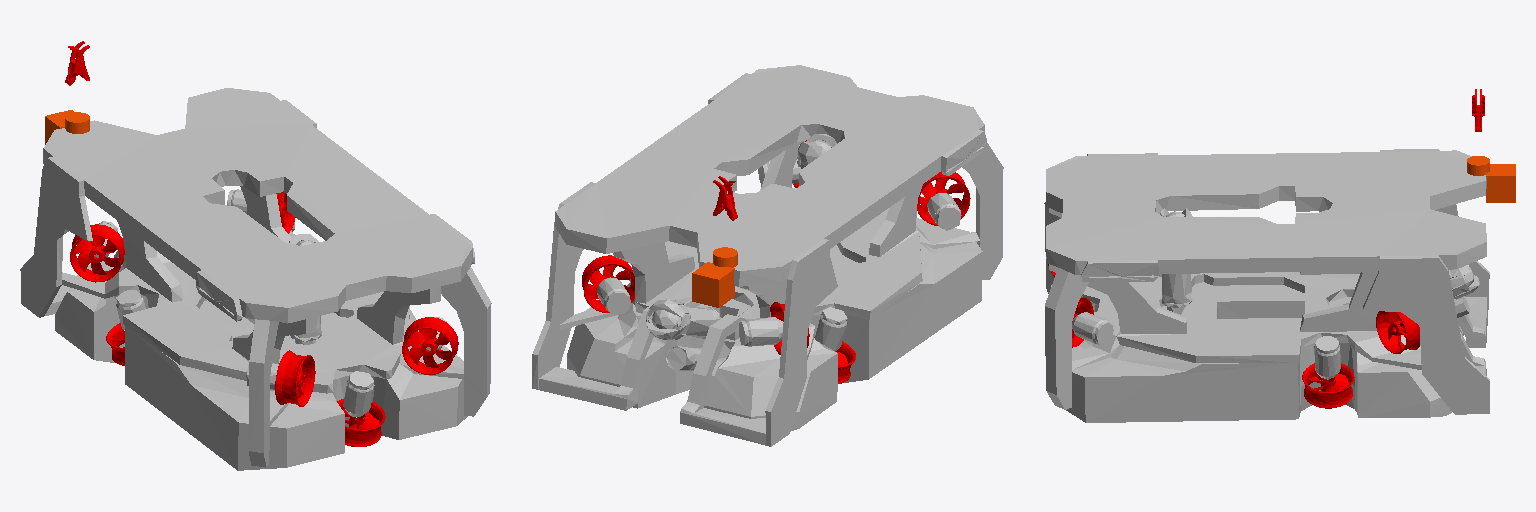
robot.urdf — bluevolta_bravo7_gripper:
<?xml version="1.0"?>
<robot name="bluevolta_bravo7_gripper">

        <material name="green">
                <color rgba="0.235 0.702 0.443 1"/>
        </material>

        <material name="blue">
                <color rgba="0.263 0.733 0.984 1"/>
        </material>

        <material name="red">
                <color rgba="1 0 0 1"/>
        </material>

        <material name="black">
                <color rgba="0.8 0.8 0.8 1"/>
        </material>

        <material name="orange">
                <color rgba="1 0.369 0.047 1"/>
        </material>

            <link name="bluevolta">
                <!--Inertial parameters are not correct-->
                <inertial>
                    <mass value="200.0"/>
                    <origin xyz="0 0 0"/>
                    <inertia ixx="0.01152" ixy="0.0" ixz="0.0" iyy="0.01152" iyz="0.0" izz="0.0218"/>
                </inertial>
                <visual>
                    <origin rpy="0 0 0" xyz="0 0 0"/>
                    <geometry>
                        <mesh filename="package://example-robot-data/robots/bluevolta_description/meshes/bluevolta.stl"/>
                    </geometry>
                    <material name="black"/>
                </visual>
                <collision>
                    <origin rpy="0 0 0" xyz="0 0 0"/>
                    <geometry>
                        <mesh filename="package://example-robot-data/robots/bluevolta_description/meshes/bluevolta_convex_hull.stl"/>
                    </geometry>
                </collision>
            </link>

            <!--THRUSTERS-->
            <link name="Thruster_TOP_FL">
                <visual>
                    <geometry>
                        <mesh filename="package://example-robot-data/robots/bluevolta_description/meshes/bluevolta_propeller.stl"/>
                    </geometry>
                    <material name="red"/>
                </visual>
            </link>

            <link name="Thruster_TOP_FR">
                <visual>
                    <geometry>
                        <mesh filename="package://example-robot-data/robots/bluevolta_description/meshes/bluevolta_propeller.stl"/>
                    </geometry>
                    <material name="red"/>
                </visual>
            </link>

            <link name="Thruster_TOP_B">
                <visual>
                    <geometry>
                        <mesh filename="package://example-robot-data/robots/bluevolta_description/meshes/bluevolta_propeller.stl"/>
                    </geometry>
                    <material name="red"/>
                </visual>
            </link>

            <link name="Thruster_BOTTOM_FL">
                <visual>
                    <geometry>
                        <mesh filename="package://example-robot-data/robots/bluevolta_description/meshes/bluevolta_propeller.stl"/>
                    </geometry>
                    <material name="red"/>
                </visual>
            </link>

            <link name="Thruster_BOTTOM_FR">
                <visual>
                    <geometry>
                        <mesh filename="package://example-robot-data/robots/bluevolta_description/meshes/bluevolta_propeller.stl"/>
                    </geometry>
                    <material name="red"/>
                </visual>
            </link>

            <link name="Thruster_BOTTOM_BL">
                <visual>
                    <geometry>
                        <mesh filename="package://example-robot-data/robots/bluevolta_description/meshes/bluevolta_propeller.stl"/>
                    </geometry>
                    <material name="red"/>
                </visual>
            </link>

            <link name="Thruster_BOTTOM_BR">
                <visual>
                    <geometry>
                        <mesh filename="package://example-robot-data/robots/bluevolta_description/meshes/bluevolta_propeller.stl"/>
                    </geometry>
                    <material name="red"/>
                </visual>
            </link>

                    <joint name="Thruster_TOP_FL_joint" type="fixed">
                        <parent link="bluevolta"/>
                        <child link="Thruster_TOP_FL"/>
                        <origin rpy="0.0 1.8 0.0" xyz="0.34 0.25 -0.28"/>
                    </joint>

                    <joint name="Thruster_TOP_FR_joint" type="fixed">
                        <parent link="bluevolta"/>
                        <child link="Thruster_TOP_FR"/>
                        <origin rpy="0.0 1.34 0.0" xyz="-0.34 0.25 -0.28"/>
                    </joint>

                    <joint name="Thruster_TOP_B_joint" type="fixed">
                        <parent link="bluevolta"/>
                        <child link="Thruster_TOP_B"/>
                        <origin rpy="0.0 1.8 -1.57" xyz="0.0 -0.6 -0.3"/>
                    </joint>

                    <joint name="Thruster_BOTTOM_FR_joint" type="fixed">
                        <parent link="bluevolta"/>
                        <child link="Thruster_BOTTOM_FR"/>
                        <origin rpy="0.0 0.0 -2.24" xyz="-0.31 0.52 -0.1"/>
                    </joint>

                    <joint name="Thruster_BOTTOM_BL_joint" type="fixed">
                        <parent link="bluevolta"/>
                        <child link="Thruster_BOTTOM_BL"/>
                        <origin rpy="0.0 0.0 -2.24" xyz="0.27 -0.6 -0.11"/>
                    </joint>

                    <joint name="Thruster_BOTTOM_FL_joint" type="fixed">
                        <parent link="bluevolta"/>
                        <child link="Thruster_BOTTOM_FL"/>
                        <origin rpy="0.0 0.0 -0.9" xyz="0.31 0.52 -0.1"/>
                    </joint>

                    <joint name="Thruster_BOTTOM_BR_joint" type="fixed">
                        <parent link="bluevolta"/>
                        <child link="Thruster_BOTTOM_BR"/>
                        <origin rpy="0.0 0.0 -0.9" xyz="-0.27 -0.6 -0.11"/>
                    </joint>

        <!--Arm attaching link-->
        <link name="box_base_bravo">
            <visual>
                <geometry>
                    <box size="0.1 0.1 0.1"/>
                </geometry>
                <material name="orange"/>
            </visual>
        </link>

                <joint name="box_base_bravo_joint" type="fixed">
                        <origin xyz="-0.25 0.835 0.17" rpy="0 0 0"/>
                    <parent link="bluevolta"/>
                    <child link="box_base_bravo"/>
                </joint>

                <joint name="base2arm" type="fixed">
                    <parent link="box_base_bravo"/>
                    <child link="link1"/>
                    <origin rpy="3.14 0.0 1.57" xyz="0 -0.05 -0.05"/>
                </joint>

          <!-- Bravo7 with sphere end-effector -->
            <link name="link1">
                <visual>
                    <geometry>
                        <mesh filename="package://example-robot-data/robots/bravo7_description/meshes/RS2-266.stl"/>
                    </geometry>
                    <material name="blue"/>
                </visual>
                <inertial>
                    <mass value="1.25"/>
                    <origin xyz="-0.075 -0.006 -0.003"/>
                    <inertia ixx="0.002108" ixy="0.000182" ixz="-0.000015" iyy="0.002573" iyz="-0.000021" izz="0.003483"/>
                </inertial>
                <collision>
                    <geometry>
                        <mesh filename="package://example-robot-data/robots/bravo7_description/meshes/RS2-266_convex_hull.stl"/>
                    </geometry>
                </collision>
            </link>

                    <joint name="joint1" type="continuous">
                        <parent link="link1"/>
                        <child link="link2"/>
                        <origin rpy="0 0 0" xyz="0.0665 0 0.078"/>
                        <axis xyz="0 0 -1"/>
                    </joint>

            <link name="link2">
                <visual>
                    <geometry>
                        <mesh filename="package://example-robot-data/robots/bravo7_description/meshes/RS2-217.stl"/>
                    </geometry>
                    <material name="green"/>
                </visual>
                <inertial>
                        <mass value="1.55" />
                        <inertia ixx="0.011442" ixy="-0.000484" ixz="0.003405" iyy="0.01298" iyz="-0.001265" izz="0.003202"/>
                        <origin xyz="0.005 -0.001 0.016" />
                </inertial>
                <collision>
                    <geometry>
                        <mesh filename="package://example-robot-data/robots/bravo7_description/meshes/RS2-217_convex_hull.stl"/>
                    </geometry>
                </collision>
            </link>

                    <joint name="joint2" type="revolute">
                        <parent link="link2"/>
                        <child link="link3"/>
                        <origin rpy="0 0 0" xyz="-0.046 0 0.0674"/>
                        <axis xyz="0 1 0"/>
                        <limit effort="9.0" lower="0.0" upper="3.5" velocity="0.5"/>
                    </joint>

            <link name="link3">
                <visual>
                    <geometry>
                        <mesh filename="package://example-robot-data/robots/bravo7_description/meshes/RS2-250-212-214.stl"/>
                    </geometry>
                    <material name="blue"/>
                </visual>
                <inertial>
                    <mass value="1.14" />
                    <origin xyz="0.022 -0.029 0.001" />
                    <inertia ixx="0.003213" ixy="-0.001548" ixz="-0.000031" iyy="0.002327" iyz="0.000006" izz="0.00434"/>
                </inertial>
                <collision>
                    <geometry>
                        <mesh filename="package://example-robot-data/robots/bravo7_description/meshes/RS2-250-212-214_convex_hull.stl"/>
                    </geometry>
                </collision>
            </link>

                    <joint name="joint3" type="revolute">
                        <parent link="link3"/>
                        <child link="link4"/>
                        <origin rpy="0 0 0" xyz="-0.0052 0 -0.29055"/>
                        <axis xyz="0 1 0"/>
                        <limit effort="9.0" lower="0.0" upper="3.5" velocity="0.5"/>
                    </joint>

            <link name="link4">
                <visual>
                    <geometry>
                        <mesh filename="package://example-robot-data/robots/bravo7_description/meshes/RS2-268.stl"/>
                    </geometry>
                    <material name="green"/>
                </visual>
                <collision>
                    <geometry>
                        <mesh filename="package://example-robot-data/robots/bravo7_description/meshes/RS2-268_convex_hull.stl"/>
                    </geometry>
                    <material name="green"/>
                </collision>
                <inertial>
                    <origin xyz="0.017 -0.026 -0.002" rpy="0.0 -0.0 0.0" />
                    <mass value="1.14" />
                    <inertia ixx="0.021232" ixy="0.00033" ixz="-0.003738" iyy="0.022252" iyz="-0.001278" izz="0.002054"/>
                </inertial>
            </link>

                    <joint name="joint4" type="continuous">
                        <parent link="link4"/>
                        <child link="link5"/>
                        <origin rpy="0 0 0" xyz="0.0408 0 0.09695"/>
                        <axis xyz="0 0 -1"/>
                    </joint>

            <link name="link5">
                <visual>
                    <geometry>
                        <mesh filename="package://example-robot-data/robots/bravo7_description/meshes/RS2-214.stl"/>
                    </geometry>
                    <material name="blue"/>
                </visual>
                <inertial>
                    <mass value="1.03" />
                    <origin xyz="0.020 -0.024 0.001" />
                    <inertia ixx="0.00243" ixy="-0.001144" ixz="-0.00004" iyy="0.002026" iyz="0.000011" izz="0.00333"/>
                </inertial>
                <collision>
                    <geometry>
                        <mesh filename="package://example-robot-data/robots/bravo7_description/meshes/RS2-214_convex_hull.stl"/>
                    </geometry>
                </collision>
            </link>

                    <joint name="joint5" type="revolute">
                        <parent link="link5"/>
                        <child link="link6"/>
                        <origin rpy="0 0 0" xyz="-0.0408 0 0.063"/>
                        <axis xyz="0 1 0"/>
                        <limit effort="9.0" lower="0.0" upper="3.5" velocity="0.5"/>
                    </joint>

            <link name="link6">
                <visual>
                    <geometry>
                        <mesh filename="package://example-robot-data/robots/bravo7_description/meshes/RS2-161.stl"/>
                    </geometry>
                    <material name="green"/>
                </visual>
                <inertial>
                    <origin xyz="0.0 0.003 -0.098" rpy="0.0 -0.0 0.0" />
                    <mass value="0.333" />
                    <inertia ixx="0.003709" ixy="-0.000002" ixz="-0.000004" iyy="0.003734" iyz="0.0" izz="0.000079" />
                </inertial>
                <collision>
                    <geometry>
                        <mesh filename="package://example-robot-data/robots/bravo7_description/meshes/RS2-161_convex_hull.stl"/>
                    </geometry>
                </collision>
            </link>

                    <joint name="joint6" type="continuous">
                        <parent link="link6"/>
                        <child link="link7"/>
                        <origin rpy="0 3.14159 0" xyz="-0.0408 0 -0.14863"/>
                        <axis xyz="0 0 -1"/>
                    </joint>

            <link name="link7">
                <visual>
                    <geometry>
                        <mesh filename="package://example-robot-data/robots/bravo7_description/meshes/RS2-180.stl"/>
                    </geometry>
                    <material name="blue"/>
                </visual>
                <inertial>
                    <origin xyz="0.0 0.003 -0.098" />
                    <mass value="1.04" />
                    <inertia ixx="0.022359" ixy="0.000001" ixz="-0.000019" iyy="0.022363" iyz="0.000015" izz="0.000936"/>
                </inertial>
                <collision>
                    <geometry>
                        <mesh filename="package://example-robot-data/robots/bravo7_description/meshes/RS2-180_convex_hull.stl"/>
                    </geometry>
                </collision>
            </link>

            <link name="force_torque_sensor">
                <visual>
                    <geometry>
                        <cylinder length="0.06" radius="0.04"/>
                    </geometry>
                    <material name="orange"/>
                </visual>
                <collision>
                    <geometry>
                        <cylinder length="0.06" radius="0.04"/>
                    </geometry>
                    <material name="orange"/>
                </collision>
            </link>

                    <joint name="FT_fixed_1" type="fixed">
                        <origin rpy="0 0 1.57" xyz=" 0 0 -0.03"/>
                        <parent link="link7"/>
                        <child link="force_torque_sensor"/>
                    </joint>

                    <joint name="bravo_finger_jaws_joint" type="fixed">
                        <parent link="link7"/>
                        <child link="bravo_finger_jaws_base_link" />
                        <origin rpy="3.14 0 0" xyz=" 0.0 0 0.132"/>
                    </joint>

            <link name="bravo_finger_jaws_base_link">
                <visual>
                    <geometry>
                        <mesh filename="package://example-robot-data/robots/bravo7_description/meshes/end_effectors/RS2-257.stl"/>
                    </geometry>
                    <material name="red"/>
                </visual>
                <collision>
                    <geometry>
                        <cylinder length="0.02" radius="0.05"/>
                    </geometry>
                    <origin xyz="0.01 0 0.00" rpy="0 1.5707 0"/>
                </collision>
            </link>

            <link name="bravo_finger1_link">
                <visual>
                    <geometry>
                        <mesh filename="package://example-robot-data/robots/bravo7_description/meshes/end_effectors/RS2-300.stl"/>
                    </geometry>
                    <material name="red"/>
                </visual>
                <collision>
                    <geometry>
                        <box size="0.14 0.04 0.045"/>
                    </geometry>
                    <origin xyz="0.07 0.025 0.00" rpy="0 0 0.35"/>
                </collision>
            </link>

                    <joint name="bravo_finger1_joint" type="revolute">
                        <origin xyz="0.0 -0.033 0" rpy="0 1.57 0"/>
                        <parent link="bravo_finger_jaws_base_link"/>
                        <child link="bravo_finger1_link"/>
                        <axis xyz="0 0 -1"/>
                        <limit lower="0" upper="1.0" effort="10" velocity="10"/>
                    </joint>

            <link name="bravo_finger2_link">
                <visual>
                    <geometry>
                        <mesh filename="package://example-robot-data/robots/bravo7_description/meshes/end_effectors/RS2-301.stl"/>
                    </geometry>
                    <material name="red"/>
                </visual>
                <collision>
                    <geometry>
                        <box size="0.14 0.04 0.045"/>
                    </geometry>
                    <origin xyz="0.07 -0.025 0.00" rpy="0 0 -0.35"/>
                </collision>
            </link>

                    <joint name="bravo_finger2_joint" type="revolute">
                        <origin xyz="0 0.033 0" rpy="0 1.57 0"/>
                        <parent link="bravo_finger_jaws_base_link"/>
                        <child link="bravo_finger2_link"/>
                        <axis xyz="0 0 1"/>
                        <limit lower="0" upper="1.0" effort="10" velocity="10"/>
                    </joint>

            <link name="grasping_poing"/>

                    <joint name="grasping_point_joint" type="fixed">
                        <parent link="link7"/>
                        <child link="grasping_poing" />
                        <origin rpy="3.14 0 0" xyz=" 0.0 0 0.175"/>
                    </joint>
</robot>

--- Render facts (derived) ---
The picture shows the robot from 3 angles, left to right: view 1: azimuth 30°, elevation 25°; view 2: azimuth 150°, elevation 25°; view 3: azimuth 270°, elevation 25°; orthographic projection.
Robot: bluevolta_bravo7_gripper — 21 links, 20 joints (5 revolute, 3 continuous, 12 fixed); root link bluevolta; default pose: all joints at 0.
Links seen in each view (by area): view 1: bluevolta, Thruster_BOTTOM_BL, Thruster_BOTTOM_FR, Thruster_BOTTOM_BR, Thruster_TOP_B, Thruster_TOP_FR; view 2: bluevolta, box_base_bravo, Thruster_BOTTOM_FL, Thruster_BOTTOM_BR, Thruster_TOP_FR; view 3: bluevolta, Thruster_TOP_FL, Thruster_BOTTOM_FL, box_base_bravo.
Boxes of the visible links, x1,y1,x2,y2 form: bluevolta: (20, 88, 491, 470); Thruster_BOTTOM_BL: (402, 317, 458, 374); Thruster_BOTTOM_FR: (70, 224, 124, 282); Thruster_BOTTOM_BR: (275, 350, 315, 406); Thruster_TOP_B: (337, 399, 385, 446); Thruster_TOP_FR: (106, 323, 124, 365); bluevolta: (532, 65, 1003, 446); box_base_bravo: (692, 262, 734, 307); Thruster_BOTTOM_FL: (582, 255, 634, 312); Thruster_BOTTOM_BR: (917, 172, 970, 225); Thruster_TOP_FR: (814, 337, 855, 383); bluevolta: (1044, 149, 1489, 422); Thruster_TOP_FL: (1302, 363, 1354, 408); Thruster_BOTTOM_FL: (1376, 311, 1419, 353); box_base_bravo: (1486, 164, 1515, 202).
Bounding box of the posed robot: 0.8943 × 1.6 × 0.9737 m (x, y, z).
Meshes: 12 distinct files referenced, 10 mesh visuals loaded (4 binary STL); not drawn: 8 (reference not matched to a file when rendering).